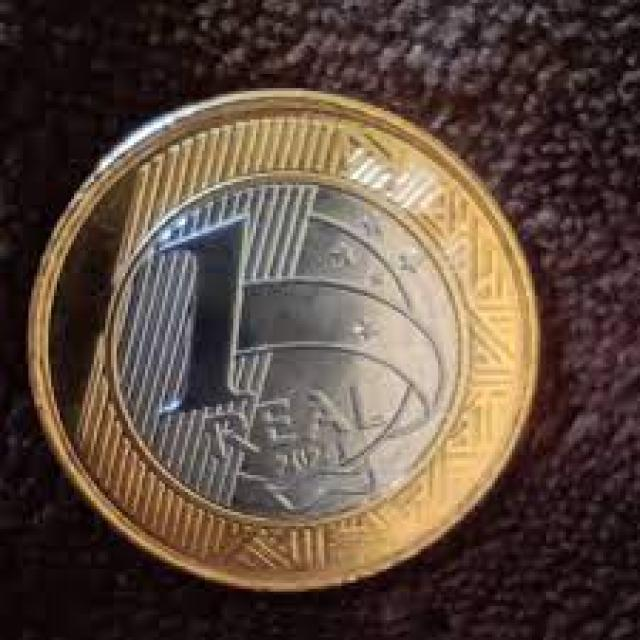1 real: (36, 93, 535, 580)
